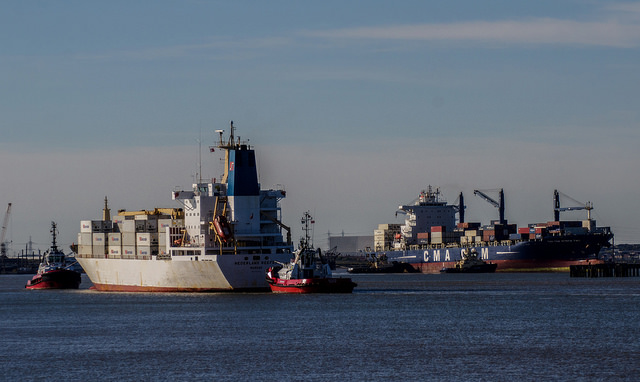container_ship: (75, 127, 287, 293), (389, 188, 611, 268)
tug_boat: (269, 223, 356, 291), (24, 218, 81, 289), (351, 245, 412, 278), (440, 242, 496, 273)
